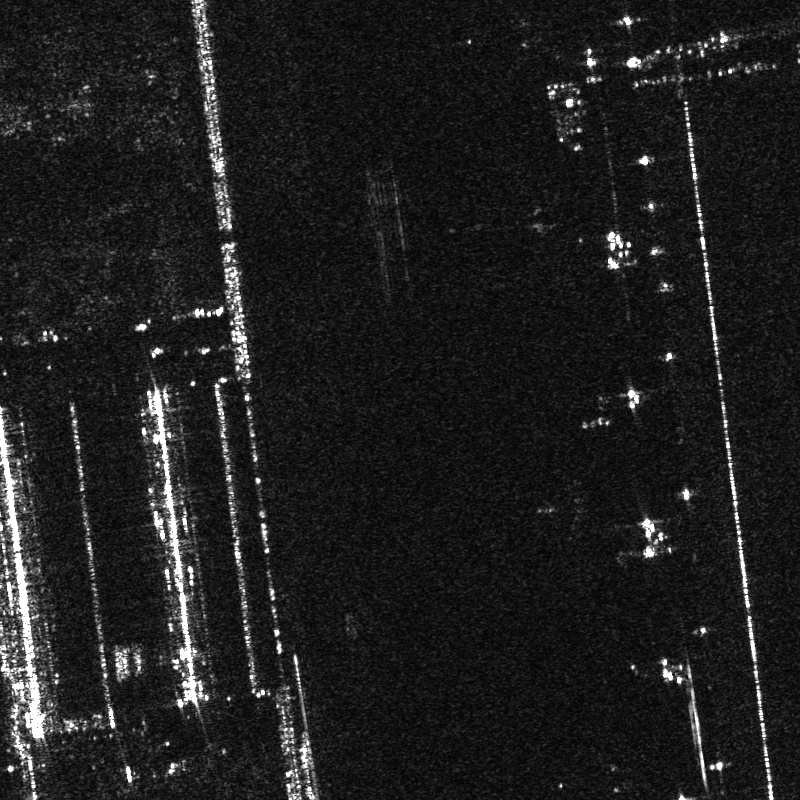Boeing787: (525, 470, 607, 544)
